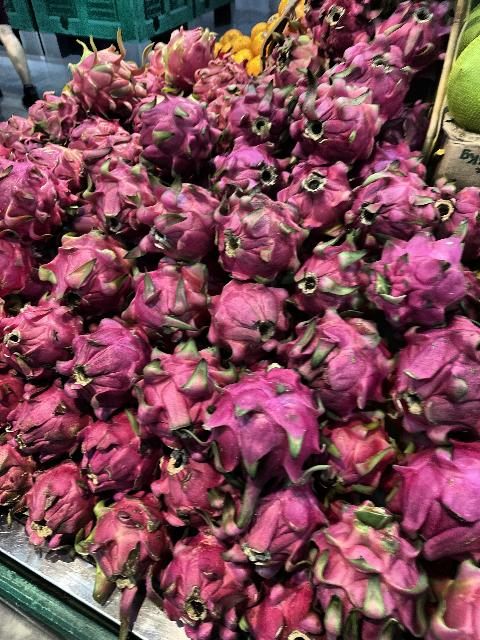buah-naga-matang: (208, 362, 324, 504), (318, 496, 422, 640), (388, 438, 480, 562), (288, 317, 398, 418), (396, 312, 480, 441), (204, 481, 312, 572), (137, 340, 219, 458), (86, 483, 168, 601), (374, 224, 472, 320), (166, 526, 246, 634), (35, 234, 140, 314), (286, 74, 377, 166), (57, 314, 146, 406), (217, 193, 310, 279), (68, 412, 162, 492), (1, 296, 92, 378), (127, 175, 215, 259), (125, 92, 222, 166), (8, 387, 90, 468), (344, 41, 416, 130), (125, 260, 207, 338), (206, 282, 290, 358), (350, 168, 434, 242), (31, 459, 90, 556), (152, 453, 228, 525), (2, 156, 66, 238), (378, 1, 450, 72), (301, 244, 368, 312), (300, 1, 378, 52), (92, 155, 146, 227), (223, 92, 292, 144), (216, 143, 292, 190)
